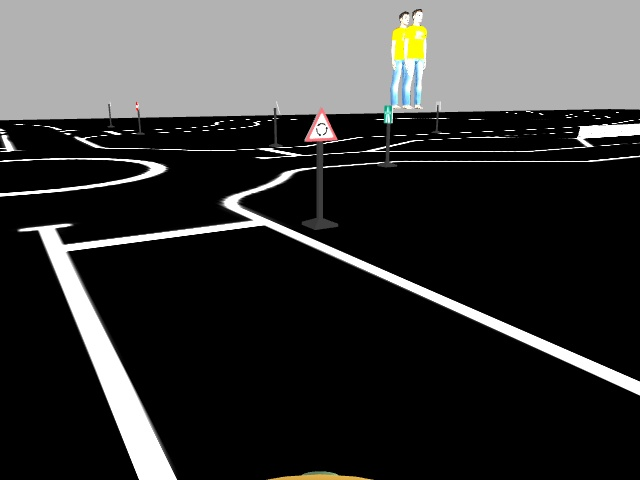HighwayEntrance: (380, 101, 395, 124)
Roundabout: (300, 106, 339, 143)
